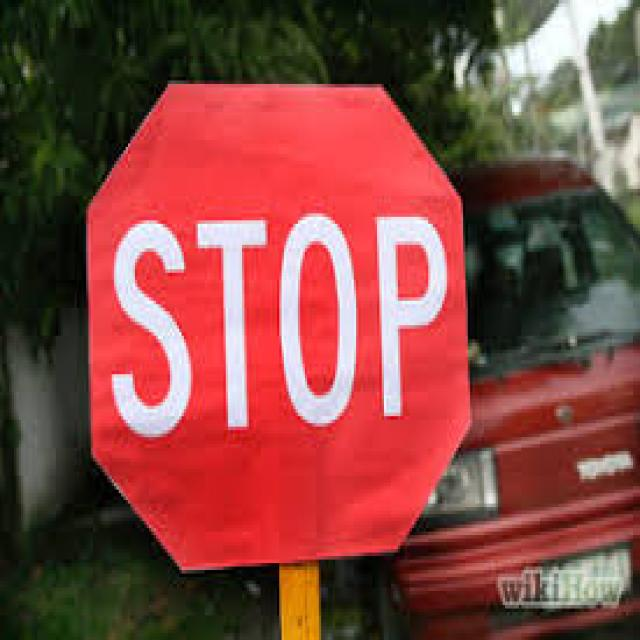stop-sign: (91, 102, 442, 594)
